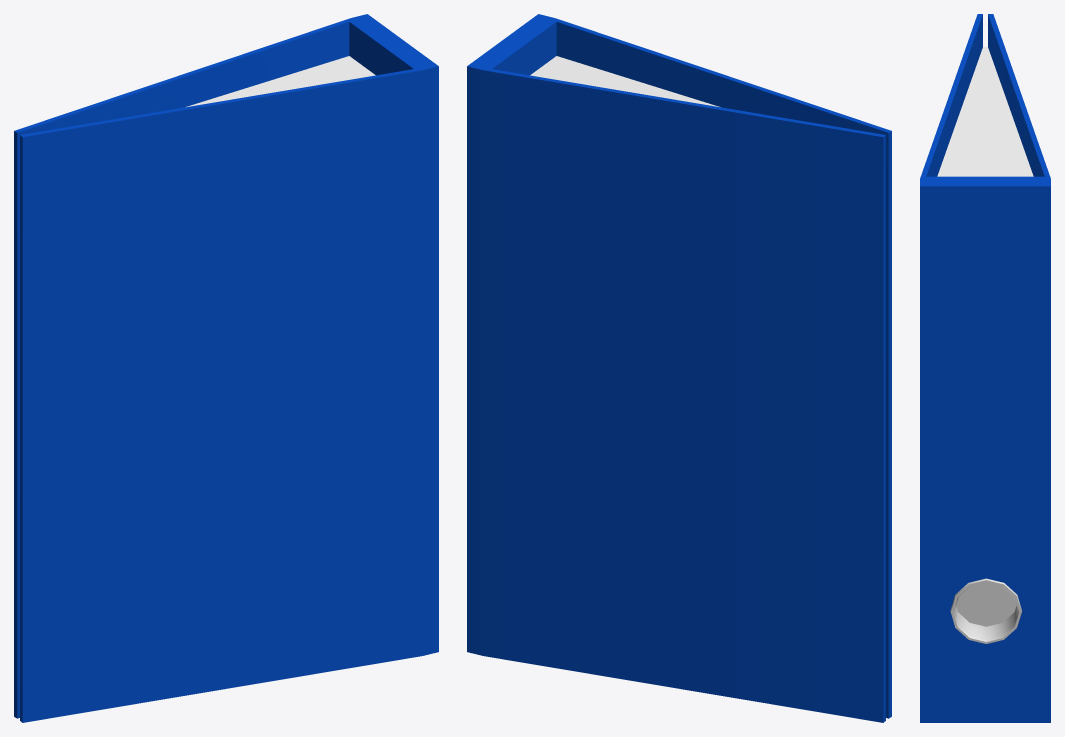
The model's file is Carpeta09.fbx.
3 renders of one model, left to right at view 1: azimuth 30°, elevation 25°; view 2: azimuth 150°, elevation 25°; view 3: azimuth 270°, elevation 25°, orthographic. The views are drawn at different scales.
Parts seen in each view (by area): view 1: Carpeta09; view 2: Carpeta09; view 3: Carpeta09.
Part boxes in pixels (x1,y1,x2,y2): Carpeta09: [14, 14, 438, 722]; Carpeta09: [467, 14, 891, 722]; Carpeta09: [920, 14, 1050, 722].
Bounding box in the file's own units: 34.66 × 50.08 × 11.07.
